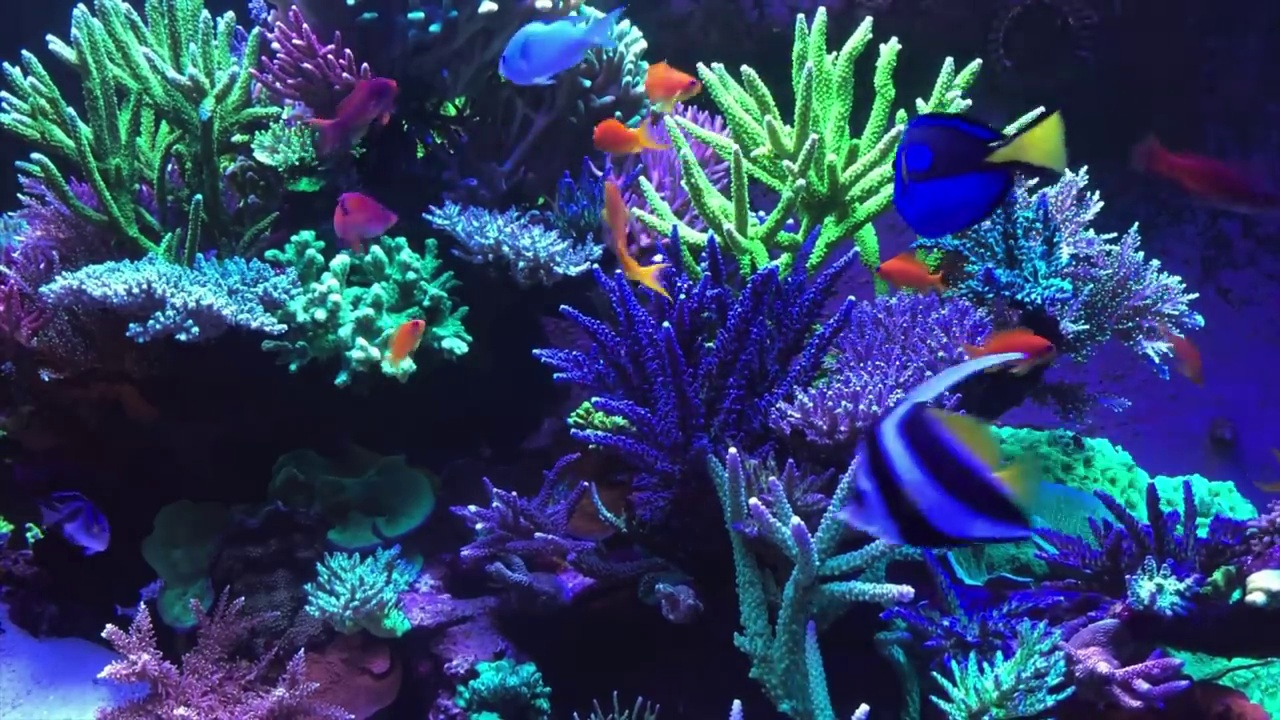fish: (834, 356, 1041, 548), (891, 105, 1069, 238), (1127, 131, 1271, 213), (495, 10, 626, 89), (601, 180, 674, 299), (310, 76, 398, 157), (34, 489, 111, 556), (960, 326, 1056, 375), (334, 190, 392, 252), (1154, 322, 1204, 385), (871, 254, 947, 293), (644, 57, 704, 106), (592, 117, 664, 156), (386, 320, 427, 367)
